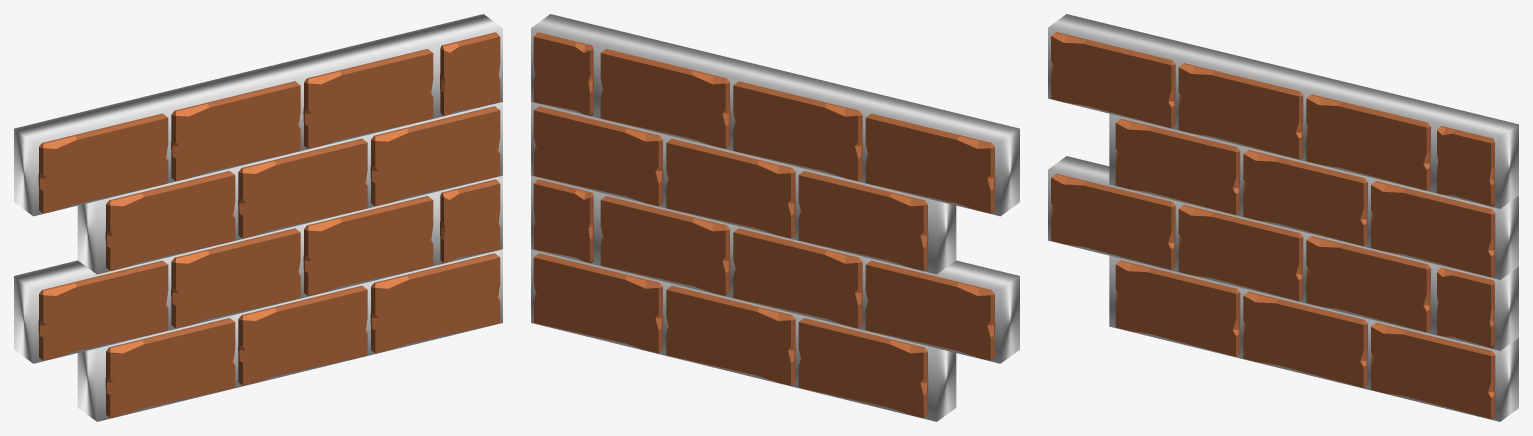
File: Right_Wall.fbx
3 views of the same model, side by side, from view 1: azimuth 30°, elevation 25°; view 2: azimuth 150°, elevation 25°; view 3: azimuth 330°, elevation 25° (orthographic). The views are drawn at different scales.
Parts seen in each view (by area): view 1: Wall_Modular.010, Wall_Modular.009, Cube.005, Cube.004, Wall_Modular.011; view 2: Wall_Modular.010, Wall_Modular.009, Cube.005, Cube.004, Wall_Modular.011; view 3: Wall_Modular.010, Wall_Modular.009, Cube.005, Cube.004, Wall_Modular.011.
Boxes of the visible parts, x1,y1,x2,y2 form: Wall_Modular.010: (38,49,433,360); Wall_Modular.009: (105,106,500,418); Cube.005: (14,14,502,363); Cube.004: (77,102,502,421); Wall_Modular.011: (440,32,500,263); Wall_Modular.010: (600,49,995,360); Wall_Modular.009: (533,106,928,418); Cube.005: (531,14,1019,363); Cube.004: (531,102,956,421); Wall_Modular.011: (533,32,593,263); Wall_Modular.010: (1051,32,1430,332); Wall_Modular.009: (1115,118,1495,418); Cube.005: (1048,14,1518,350); Cube.004: (1109,113,1518,421); Wall_Modular.011: (1437,126,1494,348).
Size of the model in its own units: 280 by 168 by 27.04.
